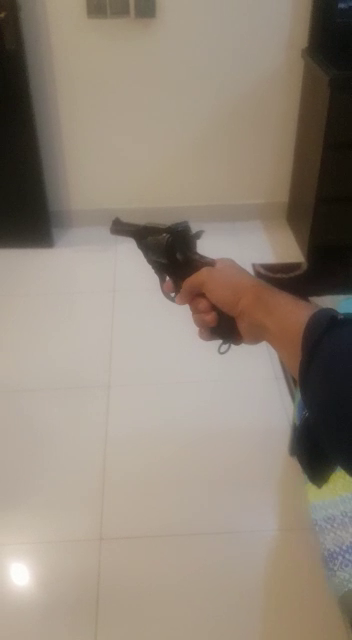handgun: (99, 201, 265, 398)
